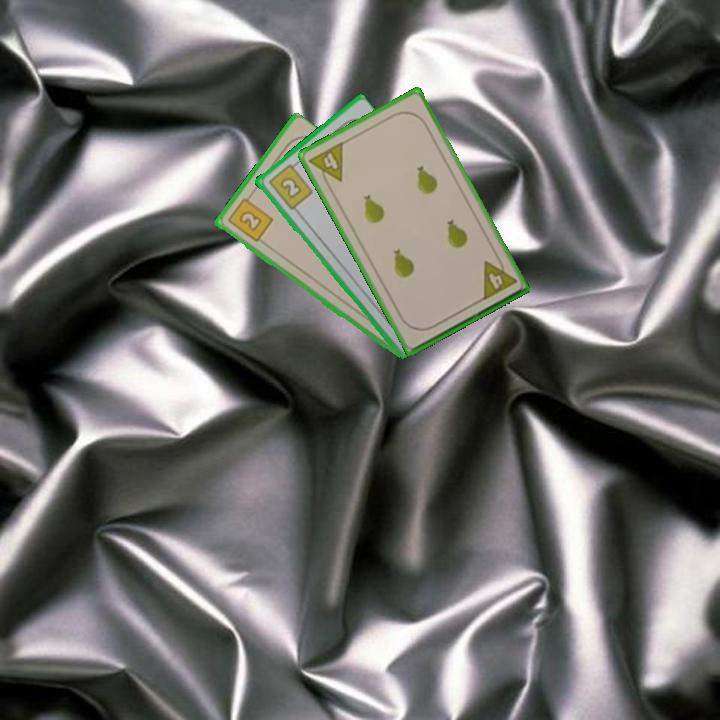2b: (264, 158, 315, 213), (224, 191, 275, 245)
4p: (305, 138, 346, 191), (479, 252, 519, 303)
